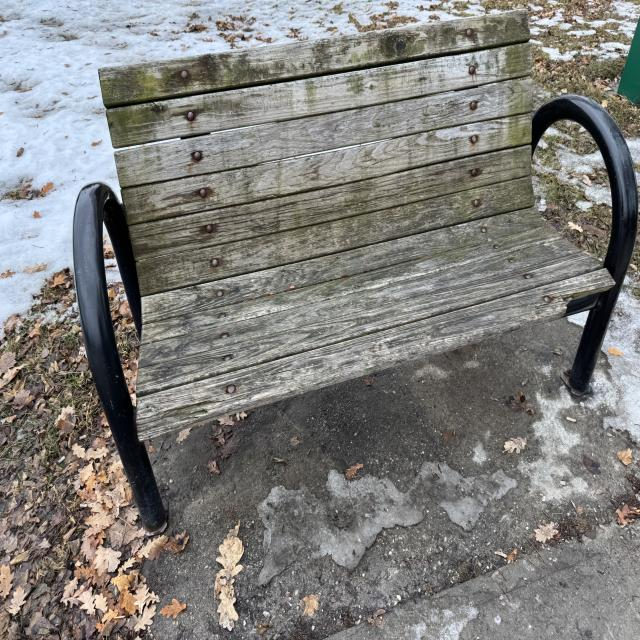Bench: (71, 67, 632, 489)
